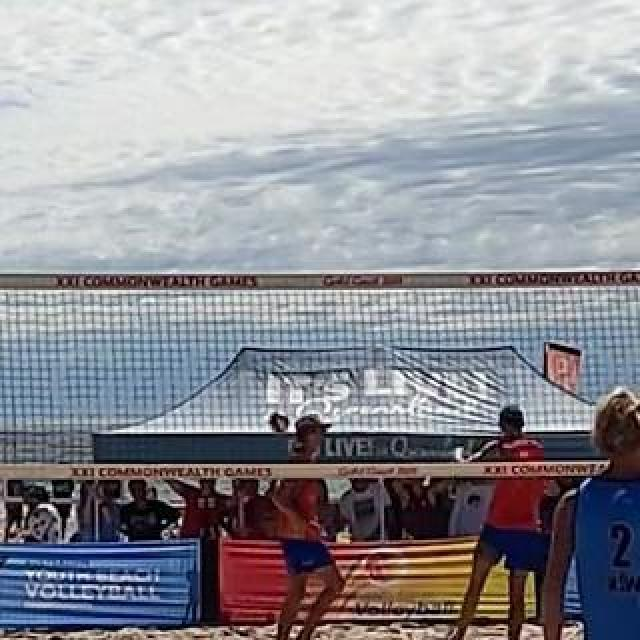volleyball: (270, 411, 290, 433)
